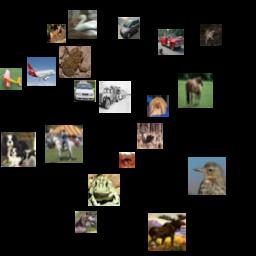airplane: (27, 57, 56, 86), (0, 68, 22, 90)
automobile: (74, 80, 96, 102), (118, 17, 140, 39)
bird: (188, 157, 226, 195), (68, 10, 97, 39), (119, 152, 135, 168)
deer: (148, 213, 186, 251), (137, 123, 163, 149), (47, 24, 66, 43)
dog: (1, 132, 36, 167), (147, 95, 169, 117)
frog: (59, 46, 91, 78), (88, 174, 120, 206), (200, 24, 222, 46)
truck: (99, 81, 131, 113), (158, 29, 184, 55)
